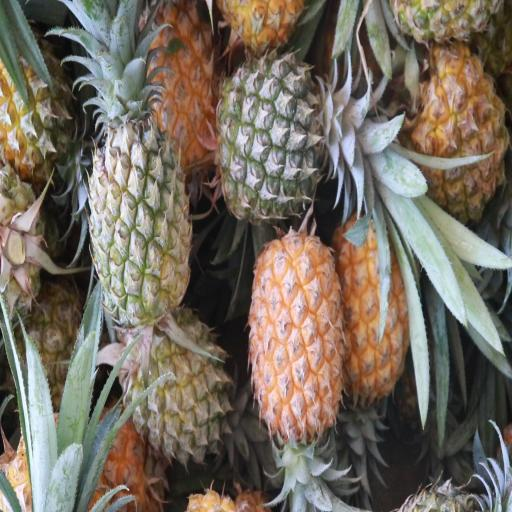------------------------------: (91, 116, 188, 316), (130, 314, 224, 456)
Pineapple - v8 v1: (252, 232, 342, 434), (417, 45, 508, 204), (340, 214, 418, 395), (134, 0, 218, 166)
